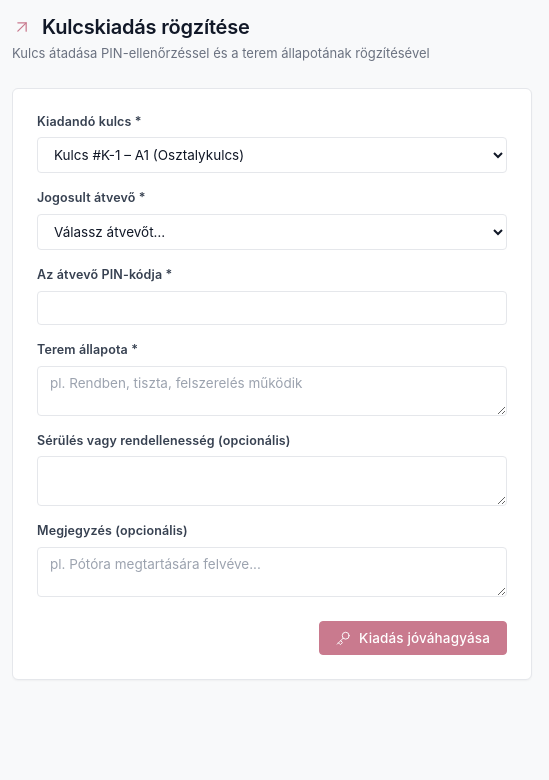
Test: KeyIssuePage › tells the porter which booking the issued key was linked to
Select "Teszt Oktató (teszt)" in the dropdown labelled "Jogosult átvevő *" at (272, 232), box x1=37 y1=214 x2=507 y2=250
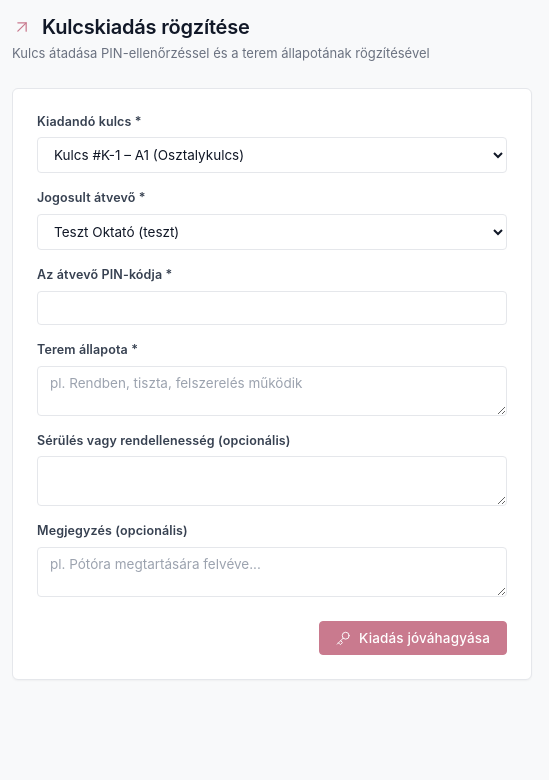
Type "1234" into the password field labelled "Az átvevő PIN-kódja *" at (272, 308), box x1=37 y1=291 x2=507 y2=325
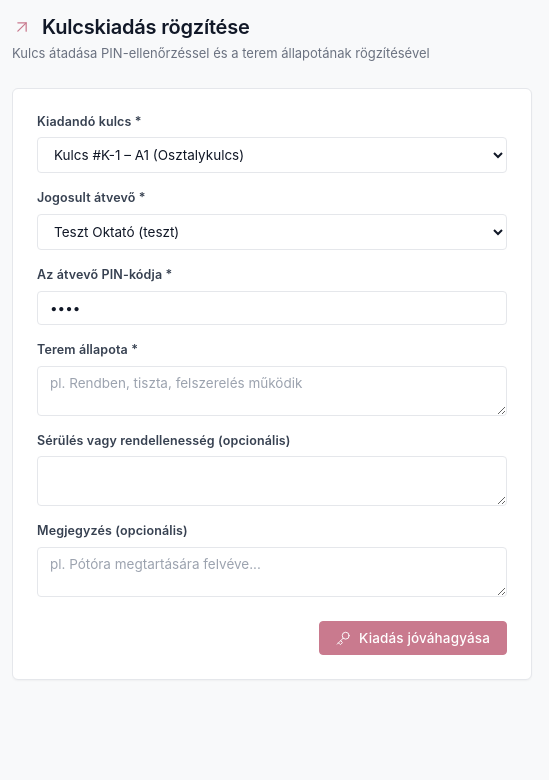
Type "Rendben" into the text box labelled "Terem állapota *" at (272, 390), box x1=37 y1=366 x2=507 y2=416
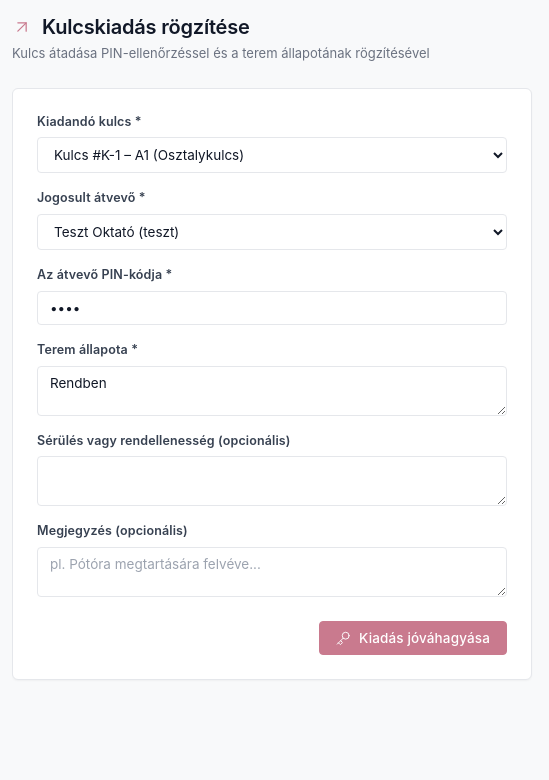
Click the button "Kiadás jóváhagyása" at (413, 638), box x1=319 y1=621 x2=507 y2=655
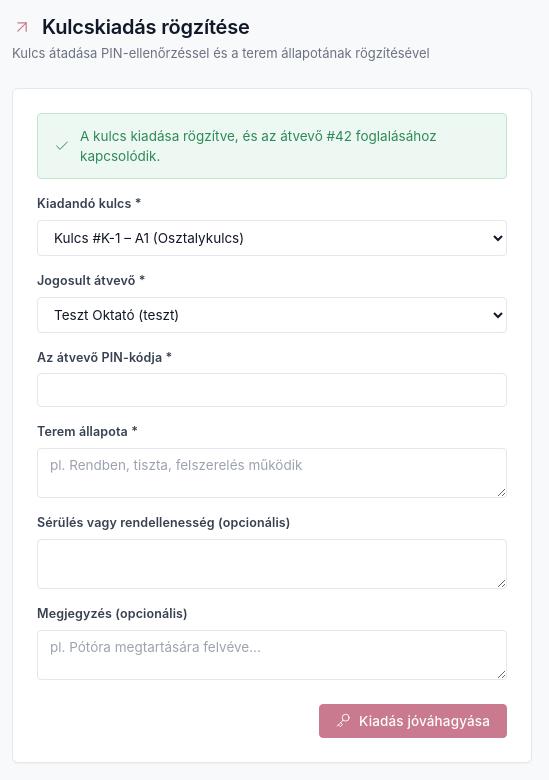
Result: the text "#42 foglalásához kapcsolódik" is shown at x1=80 y1=128 x2=437 y2=164
